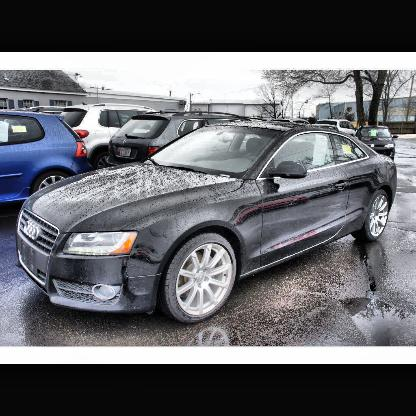Audi A5 Coupe 2012: (15, 119, 399, 327)
